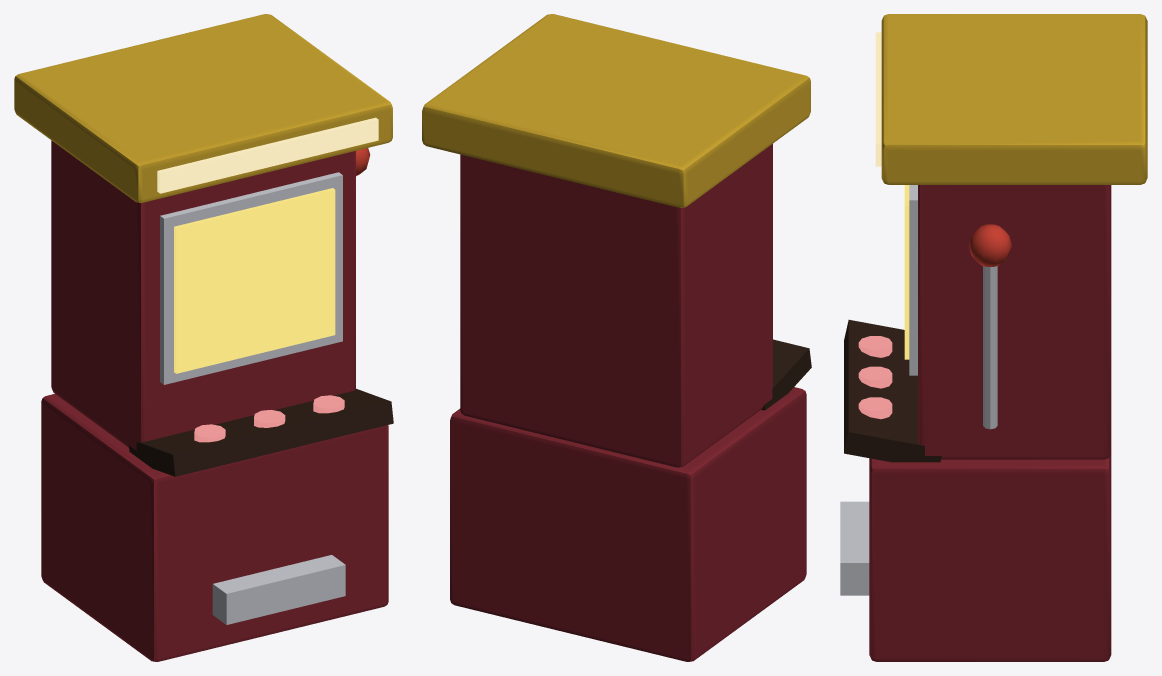
Rendered from slot-machine.glb.
3 views of the same model, side by side, from view 1: azimuth 30°, elevation 25°; view 2: azimuth 150°, elevation 25°; view 3: azimuth 270°, elevation 25° (orthographic). The views are drawn at different scales.
Visible parts, largest first — view 1: part-cabinet, part-topper, part-screen, part-chrome, part-ledge, part-topper-light, part-button; view 2: part-cabinet, part-topper, part-ledge; view 3: part-cabinet, part-topper, part-ledge, part-chrome, part-button, part-lever-knob, part-screen, part-topper-light.
Part boxes in pixels (bbox=[...]): part-cabinet: bbox=[41, 140, 388, 661]; part-topper: bbox=[14, 14, 392, 202]; part-screen: bbox=[174, 188, 335, 373]; part-chrome: bbox=[160, 172, 345, 624]; part-ledge: bbox=[128, 388, 393, 476]; part-topper-light: bbox=[157, 117, 378, 193]; part-button: bbox=[194, 395, 344, 442]; part-cabinet: bbox=[450, 144, 806, 661]; part-topper: bbox=[422, 14, 810, 207]; part-ledge: bbox=[761, 339, 811, 410]; part-cabinet: bbox=[869, 185, 1111, 661]; part-topper: bbox=[881, 14, 1147, 184]; part-ledge: bbox=[844, 319, 941, 462]; part-chrome: bbox=[840, 185, 997, 595]; part-button: bbox=[858, 336, 892, 419]; part-lever-knob: bbox=[968, 224, 1011, 266]; part-screen: bbox=[904, 185, 909, 359]; part-topper-light: bbox=[875, 32, 881, 166].
Bounding box in the file's own units: 28.31 × 48 × 25.4.
